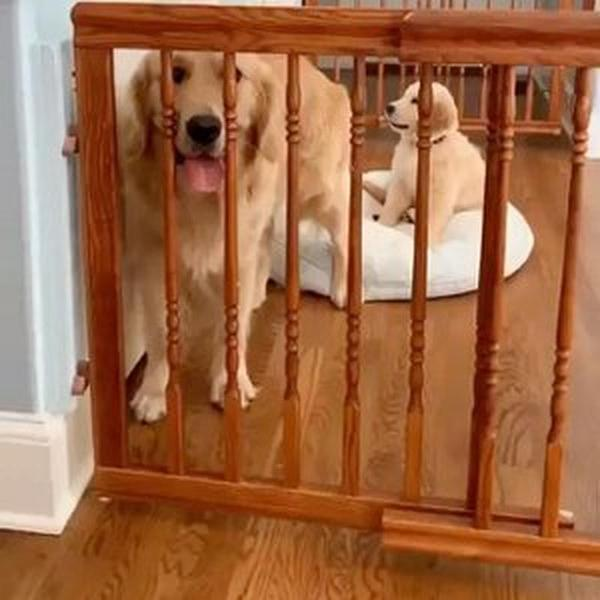allqu: (114, 38, 363, 428), (376, 73, 512, 247)
